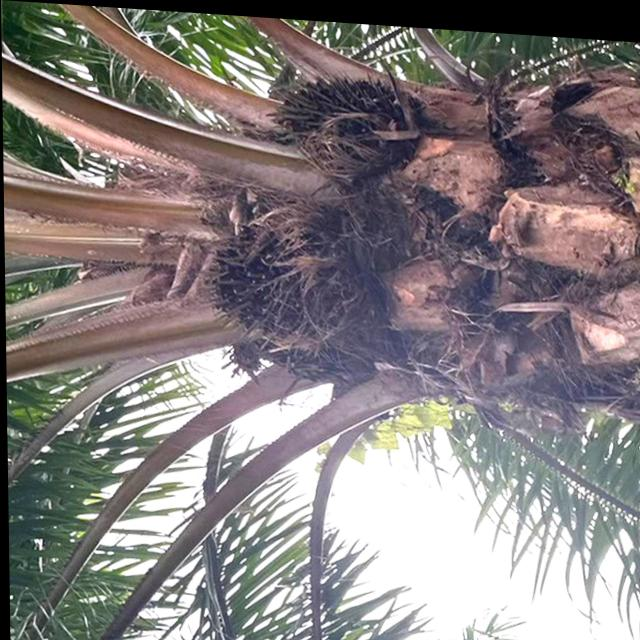ripe: (201, 198, 365, 387), (263, 71, 410, 177)
